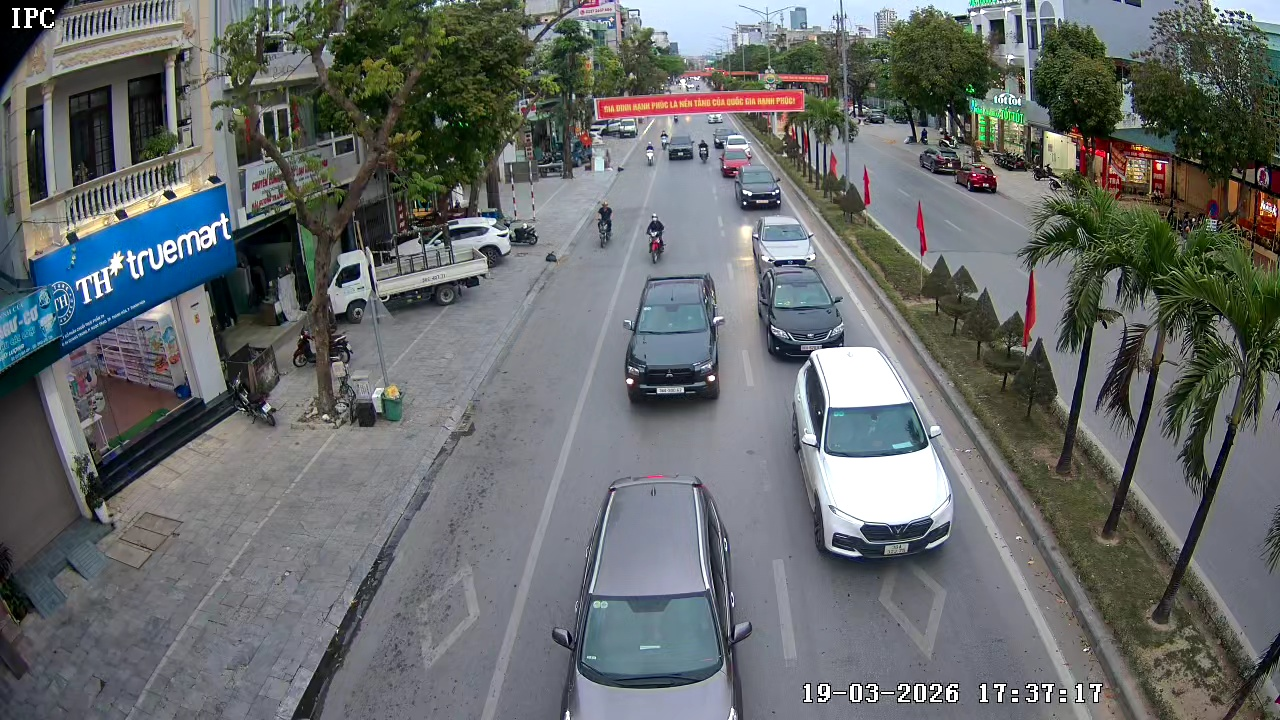car: (552, 473, 757, 719), (790, 345, 956, 560), (622, 271, 728, 404), (755, 261, 848, 360), (748, 213, 817, 274), (734, 162, 784, 211), (719, 140, 751, 179), (666, 134, 693, 161)
motorbike: (645, 212, 668, 264), (594, 197, 615, 248), (642, 138, 657, 166)
